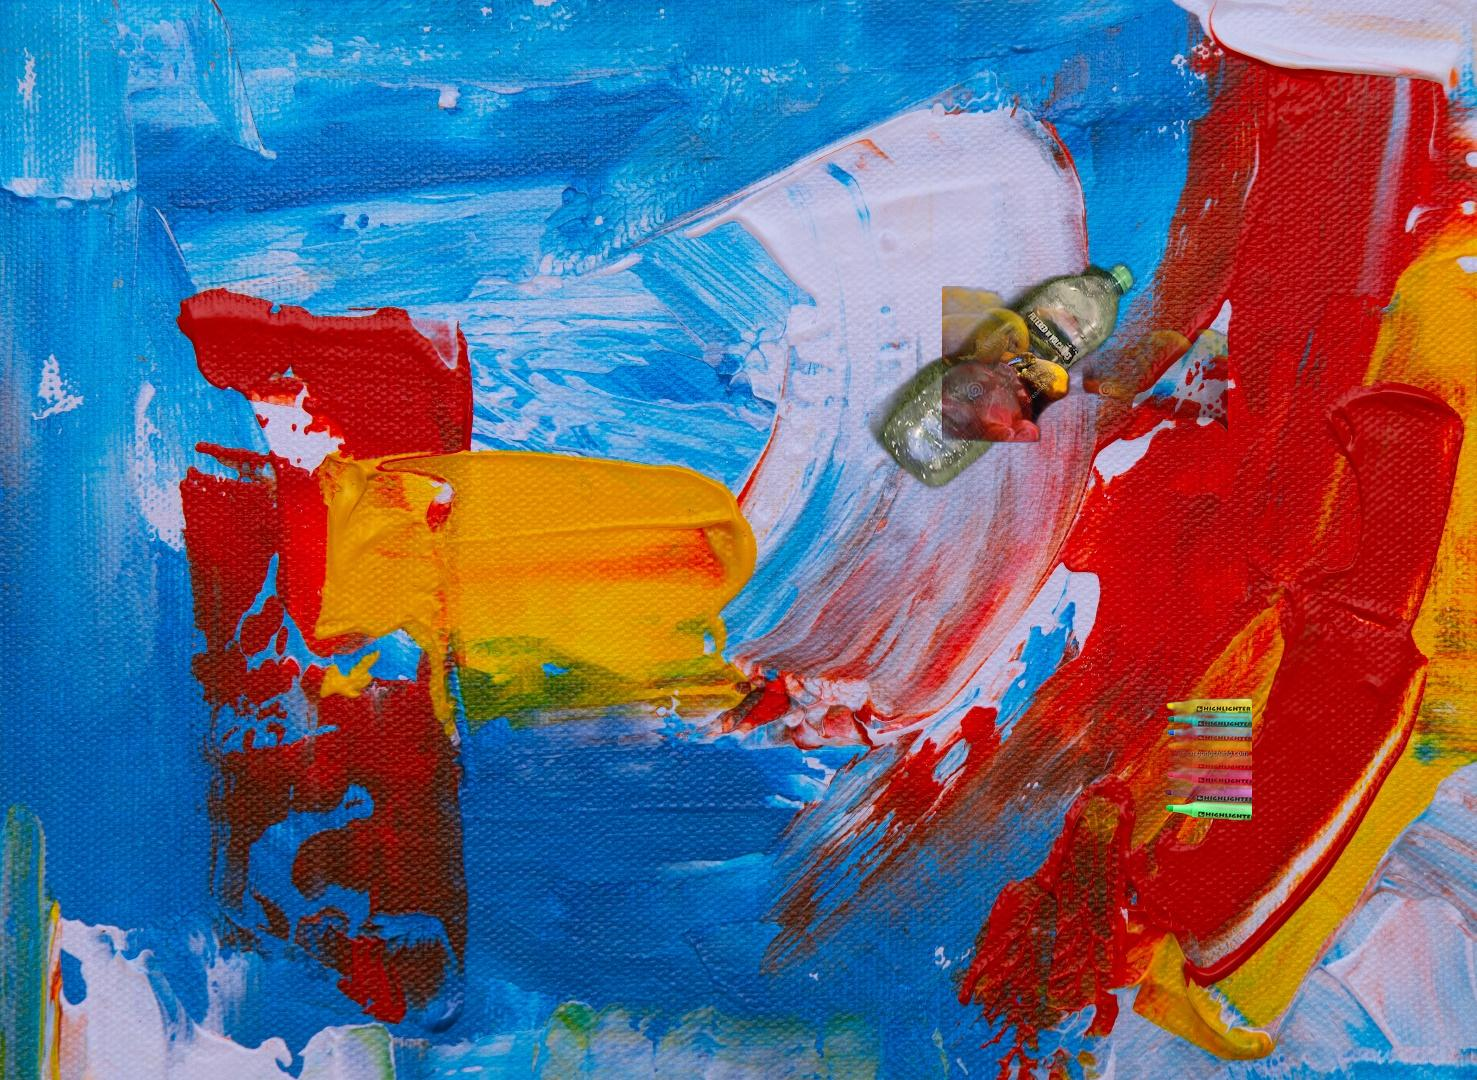biological: (941, 285, 1228, 462)
penholder: (1119, 692, 1252, 825)
plastic-bottles: (863, 259, 1138, 493)
